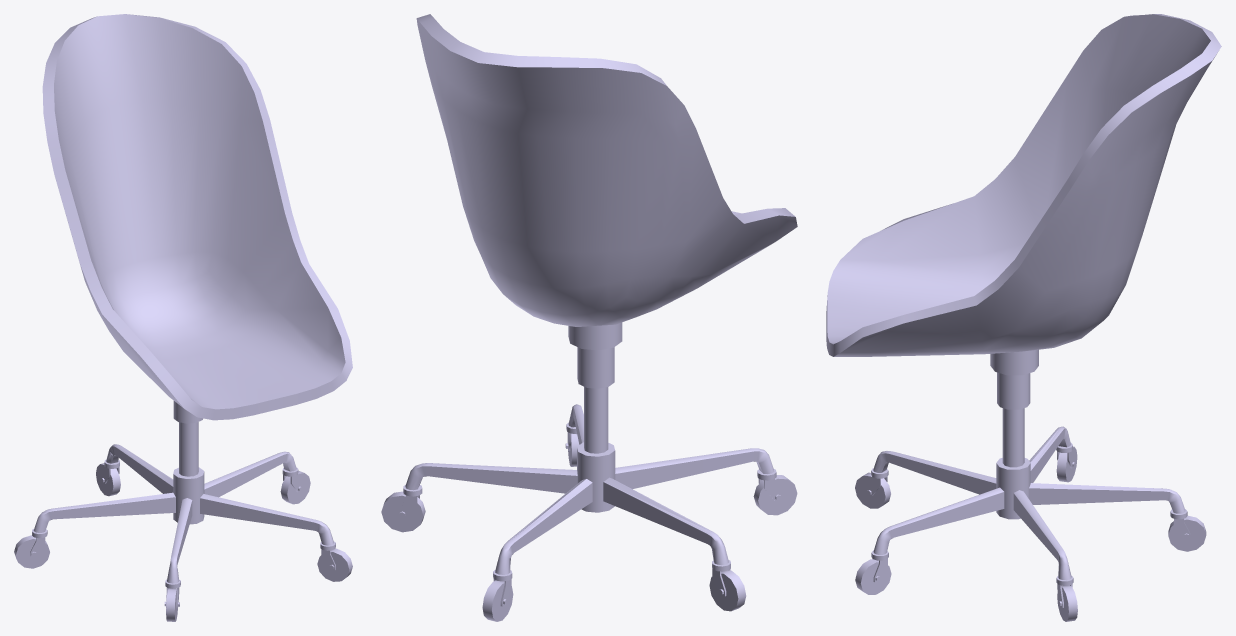
3 views of the same model, side by side, from view 1: azimuth 30°, elevation 25°; view 2: azimuth 150°, elevation 25°; view 3: azimuth 270°, elevation 25° (orthographic). The views are drawn at different scales.
Parts seen in each view (by area): view 1: terminal_chair_reference.015, terminal_chair_reference.008, terminal_chair_reference, terminal_chair_reference.005, terminal_chair_reference.002, terminal_chair_reference.007; view 2: terminal_chair_reference.015, terminal_chair_reference.008, terminal_chair_reference.002, terminal_chair_reference.013, terminal_chair_reference, terminal_chair_reference.007; view 3: terminal_chair_reference.015, terminal_chair_reference.008, terminal_chair_reference.007, terminal_chair_reference.005, terminal_chair_reference.013, terminal_chair_reference.002.
Boxes of the visible parts, box(x1,y1,x2,y2) form: terminal_chair_reference.015: box(42, 14, 352, 423); terminal_chair_reference.008: box(33, 422, 333, 583); terminal_chair_reference: box(14, 535, 49, 568); terminal_chair_reference.005: box(317, 548, 352, 581); terminal_chair_reference.002: box(280, 470, 310, 504); terminal_chair_reference.007: box(96, 463, 120, 496); terminal_chair_reference.015: box(416, 14, 797, 388); terminal_chair_reference.008: box(405, 387, 774, 574); terminal_chair_reference.002: box(381, 491, 425, 532); terminal_chair_reference.013: box(753, 475, 797, 515); terminal_chair_reference: box(709, 570, 746, 611); terminal_chair_reference.007: box(482, 580, 513, 621); terminal_chair_reference.015: box(826, 14, 1221, 409); terminal_chair_reference.008: box(873, 408, 1185, 580); terminal_chair_reference.007: box(1168, 515, 1206, 551); terminal_chair_reference.005: box(855, 559, 891, 594); terminal_chair_reference.013: box(855, 472, 890, 508); terminal_chair_reference.002: box(1057, 585, 1077, 621).
Bounding box in the file's own units: 3178 × 4834 × 3403.
